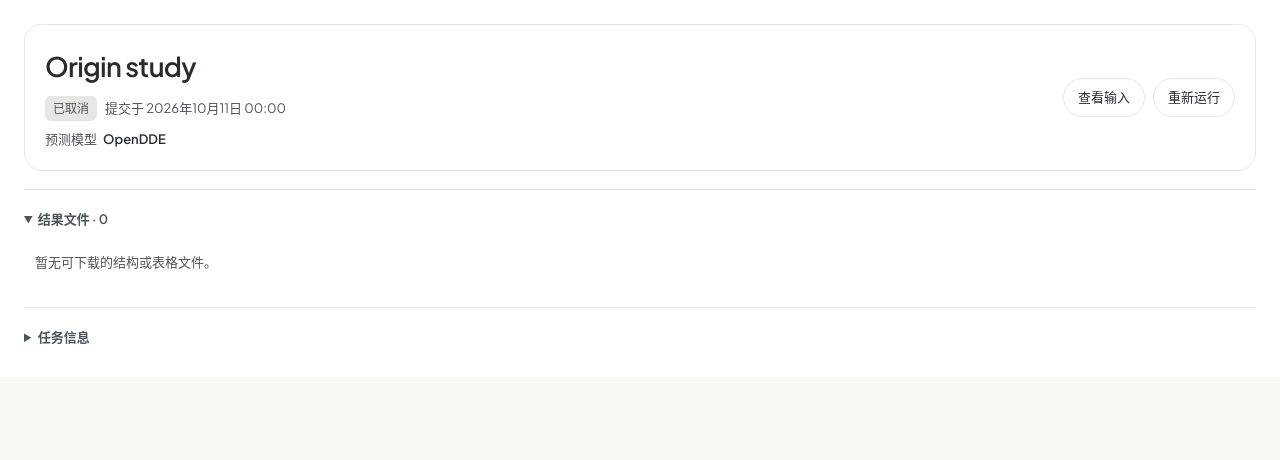
keeps a fresh cleanup failure distinct from task history (zh)
Click the button "重新运行" at (1194, 98), box [1153, 78, 1235, 117]
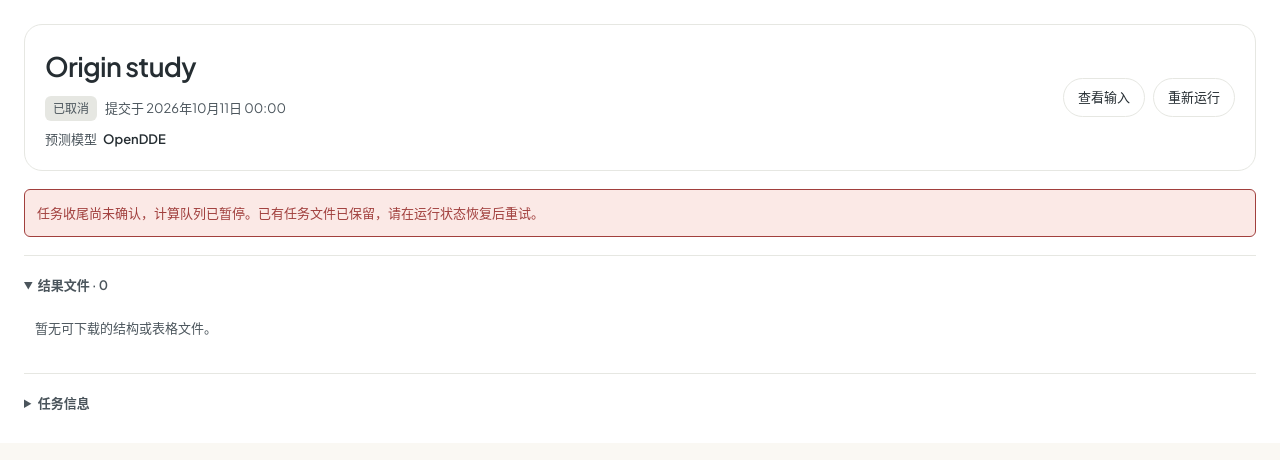
Now the message shows "计算队列已暂停", box [37, 205, 544, 221]
